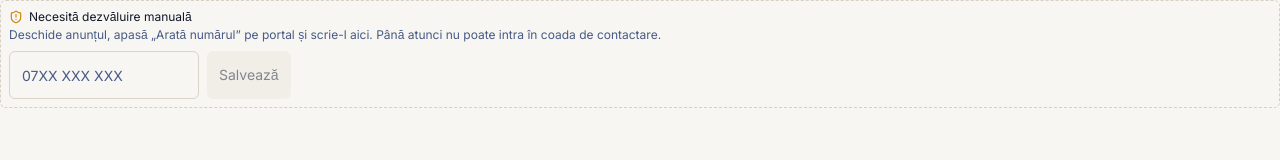
Test: ProspectPhoneEditor › respinge numerele mascate sau incomplete și nu apelează salvarea
The width and height of the screenshot is (1280, 160).
Type "07•• ••• 123" into the field named "Telefon dezvăluit manual" at (104, 75), box [9,51,199,99]
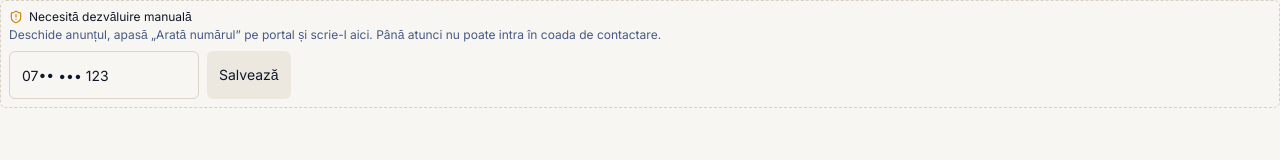
Click the button "Salvează" at (249, 75), box [207,51,291,99]
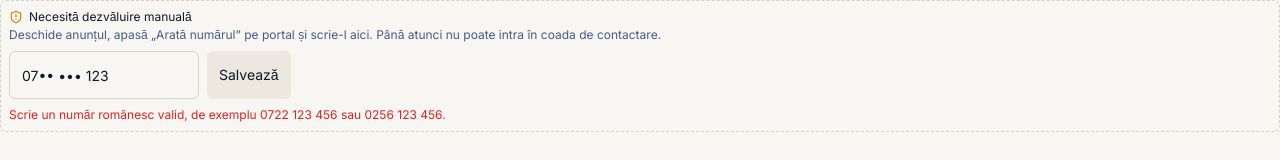
Result: the message shows "Scrie un număr românesc valid" at [9,107,446,122]
